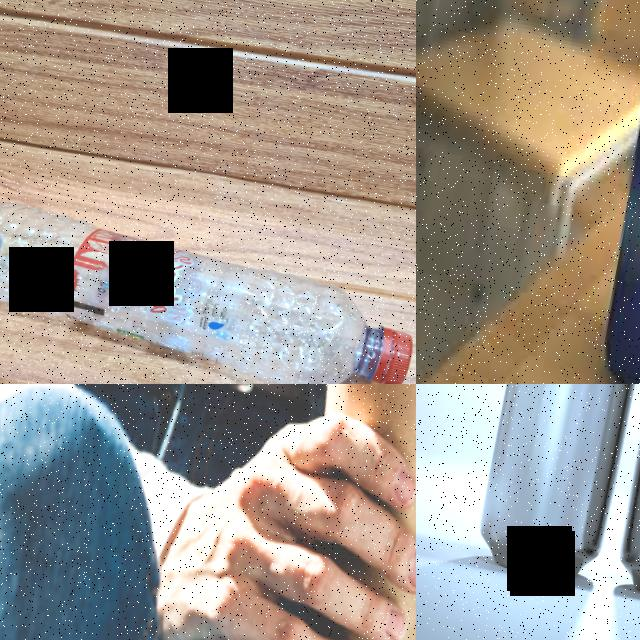bottle: (0, 189, 416, 384)
can: (465, 384, 640, 593), (579, 0, 640, 384)
cup: (253, 384, 416, 640)
